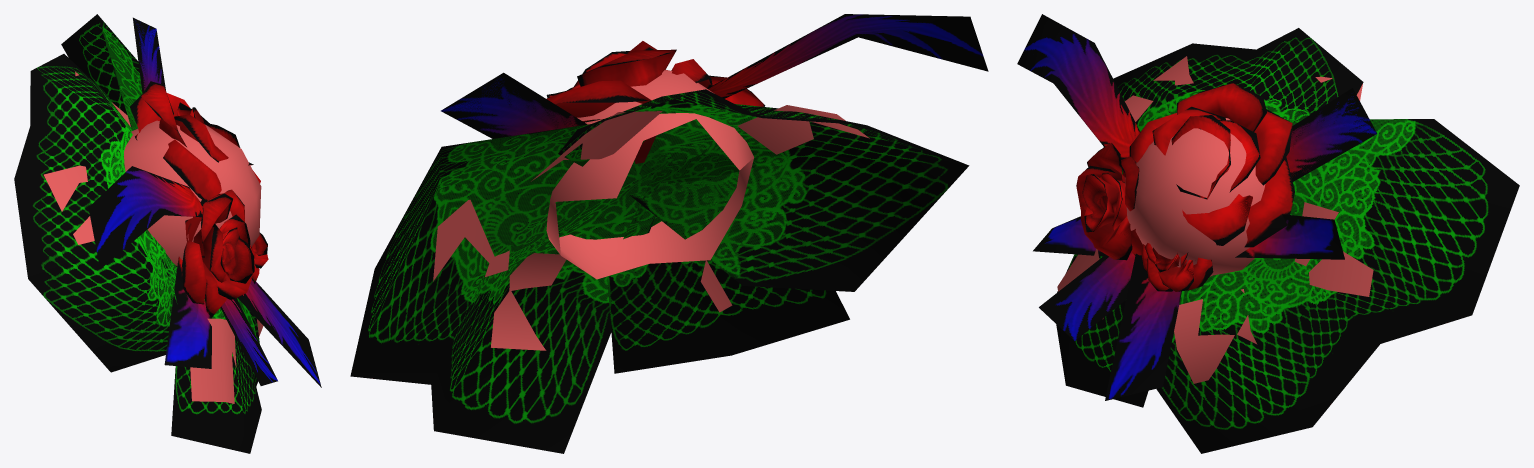
The picture shows the model from 3 angles, left to right: view 1: azimuth 30°, elevation 25°; view 2: azimuth 150°, elevation 25°; view 3: azimuth 270°, elevation 25°; orthographic projection. The views are drawn at different scales.
Visible parts, largest first — view 1: K1294, "Editable Poly"; view 2: K1294, "Editable Poly"; view 3: K1294, "Editable Poly".
Part boxes in pixels (left/top/right/bottom): K1294: left=14, top=14, right=321, bottom=453; "Editable Poly": left=44, top=71, right=263, bottom=403; K1294: left=350, top=14, right=988, bottom=453; "Editable Poly": left=433, top=70, right=869, bottom=350; K1294: left=1017, top=14, right=1519, bottom=453; "Editable Poly": left=1057, top=56, right=1373, bottom=383.
Size of the model in its own units: 0.4368 by 0.4835 by 0.6268.
